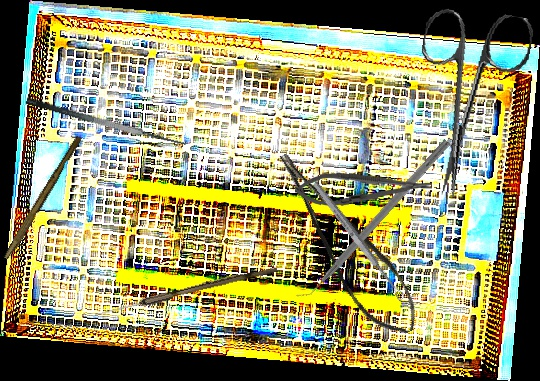Chopper: (291, 131, 451, 305)
Iris Scissors: (397, 1, 536, 206)
Micro Scissor: (273, 132, 428, 350)
Needle Holder: (294, 168, 433, 209)
Scalpel Handle: (3, 134, 83, 262)
Spatula Surgical: (25, 83, 190, 153)
Surgical Spoon: (310, 179, 407, 303), (94, 262, 278, 321)
